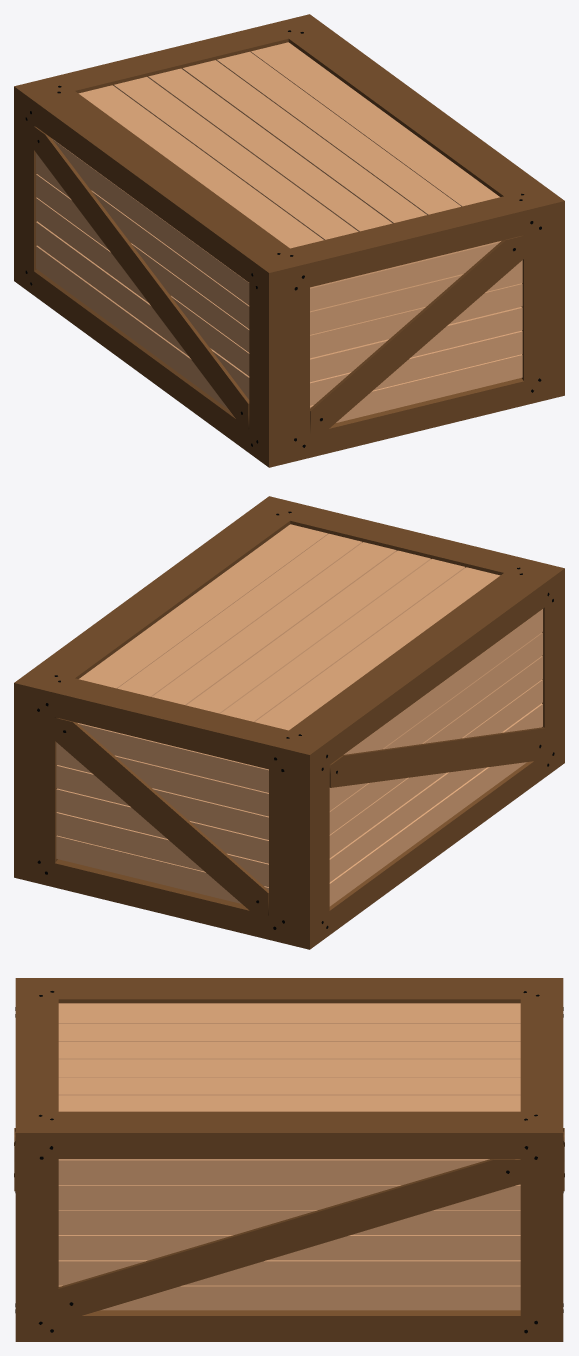
3 views of the same model, one above another, from view 1: azimuth 30°, elevation 25°; view 2: azimuth 150°, elevation 25°; view 3: azimuth 270°, elevation 25° (orthographic). The views are drawn at different scales.
Parts seen in each view (by area): view 1: Box; view 2: Box; view 3: Box.
Boxes of the visible parts, x1,y1,x2,y2 form: Box: [14, 14, 564, 467]; Box: [14, 496, 564, 949]; Box: [14, 978, 564, 1341].
Bounding box in the file's own units: 43.14 × 26.95 × 64.2.
